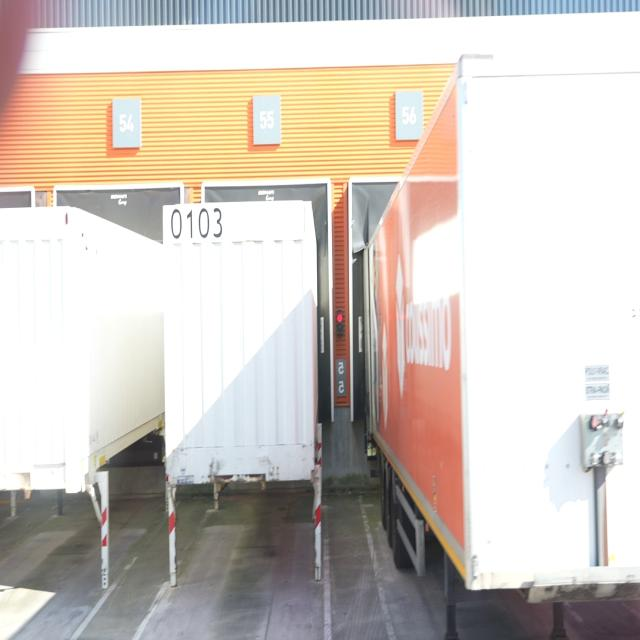Code: (170, 206, 225, 242)
